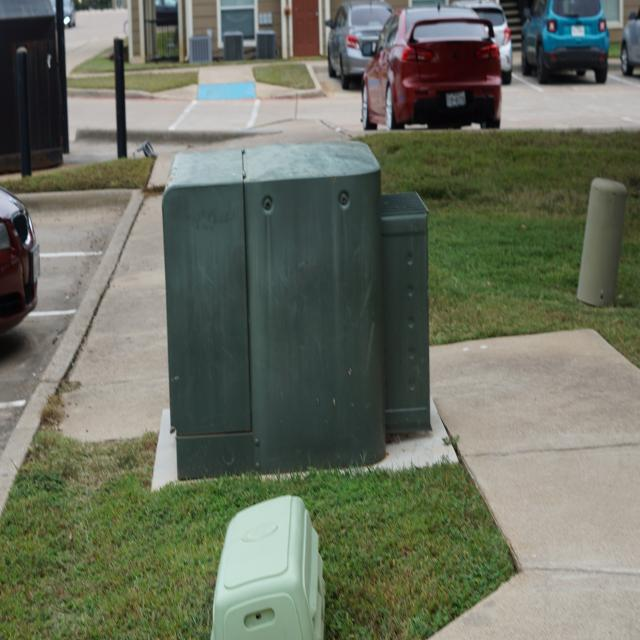Automobile: (328, 0, 513, 132), (521, 0, 610, 84), (0, 187, 40, 334), (620, 10, 640, 75)
Obstacle: (162, 142, 431, 480), (212, 496, 324, 639), (577, 178, 627, 307), (16, 49, 31, 176), (114, 39, 127, 158)
Road: (0, 190, 132, 455), (126, 88, 362, 135), (501, 52, 640, 129), (65, 9, 128, 77), (68, 89, 115, 143)
Sidewalk: (430, 329, 640, 638), (60, 192, 169, 441), (161, 64, 306, 102)
